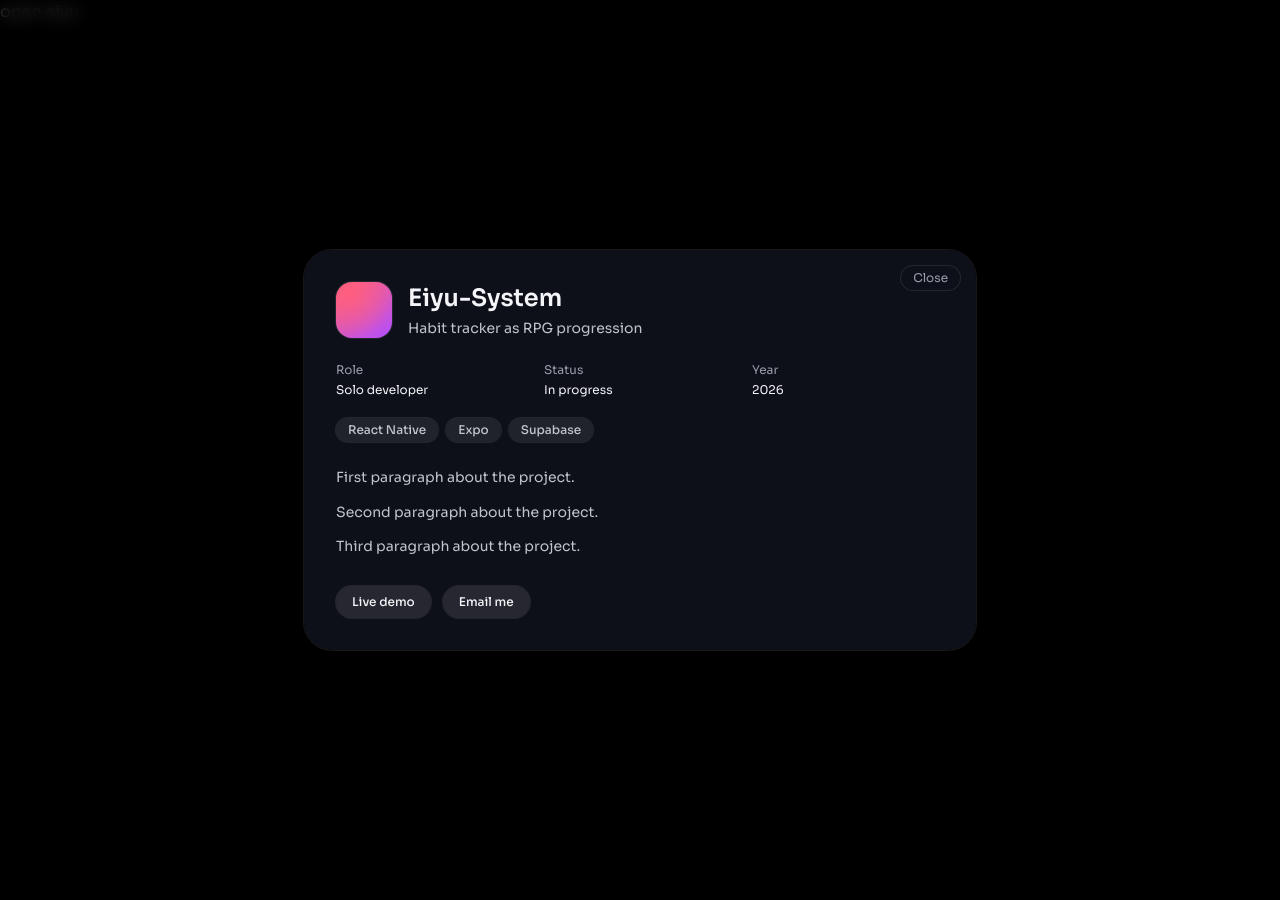
Test: ProjectOverlay — closing › closes when the backdrop is clicked
Click the element with test id "project-overlay-backdrop".
click(77, 450)  # box left=0, top=0, right=1279, bottom=899
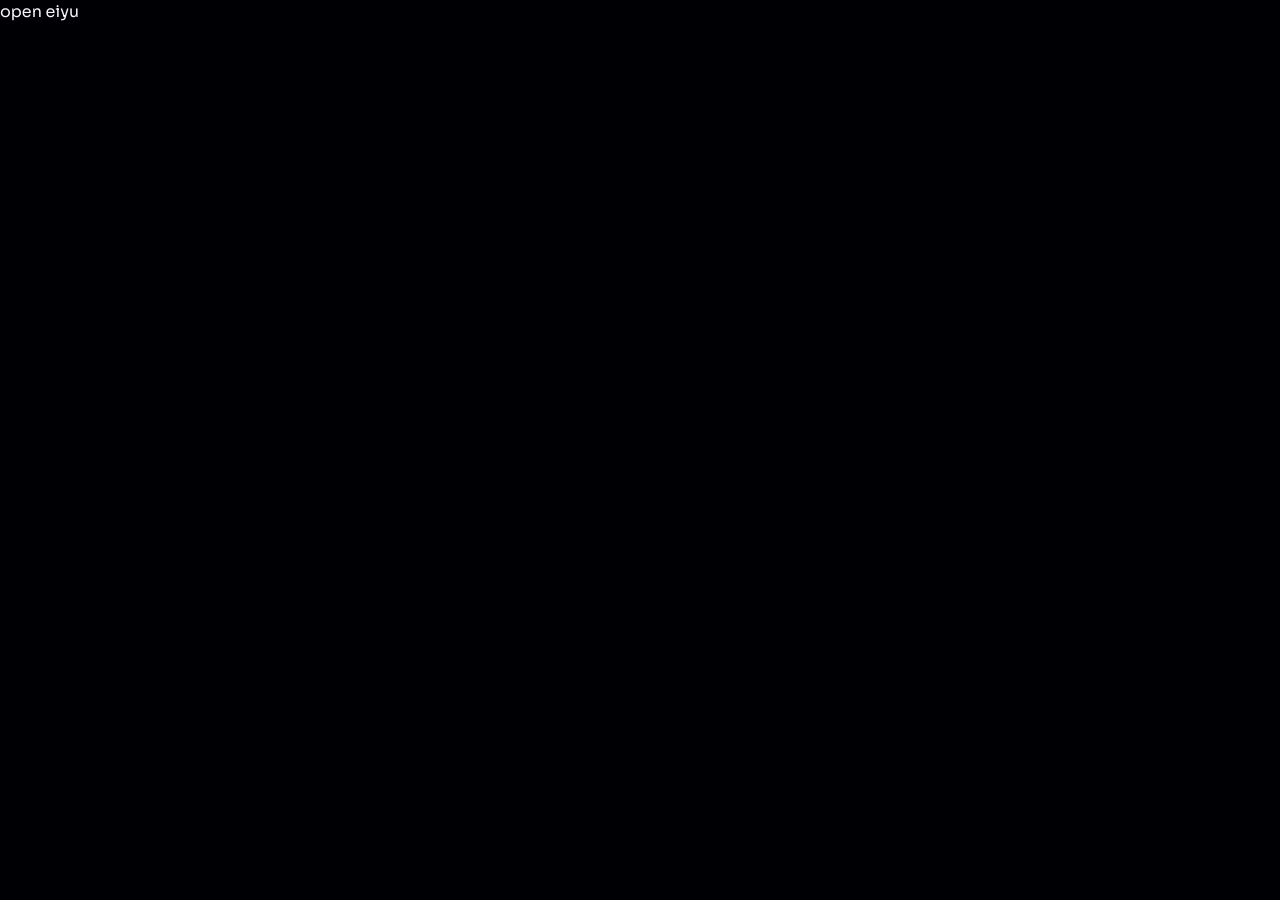
Check: the dialog is gone
